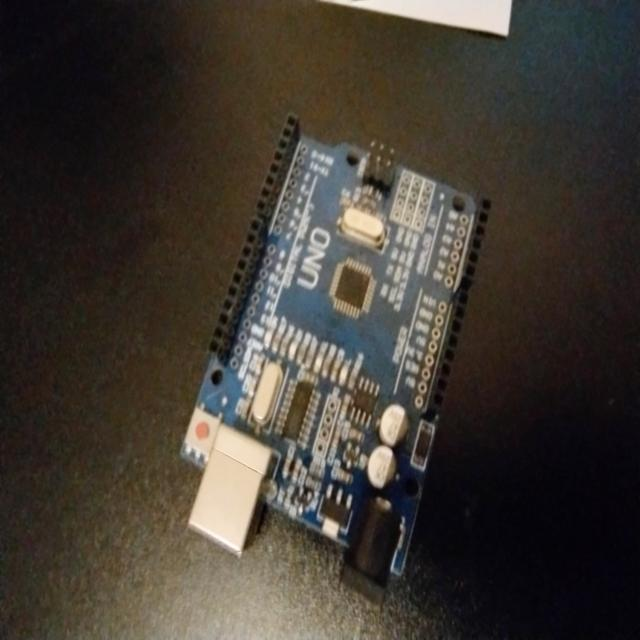arduino: (184, 114, 497, 594)
